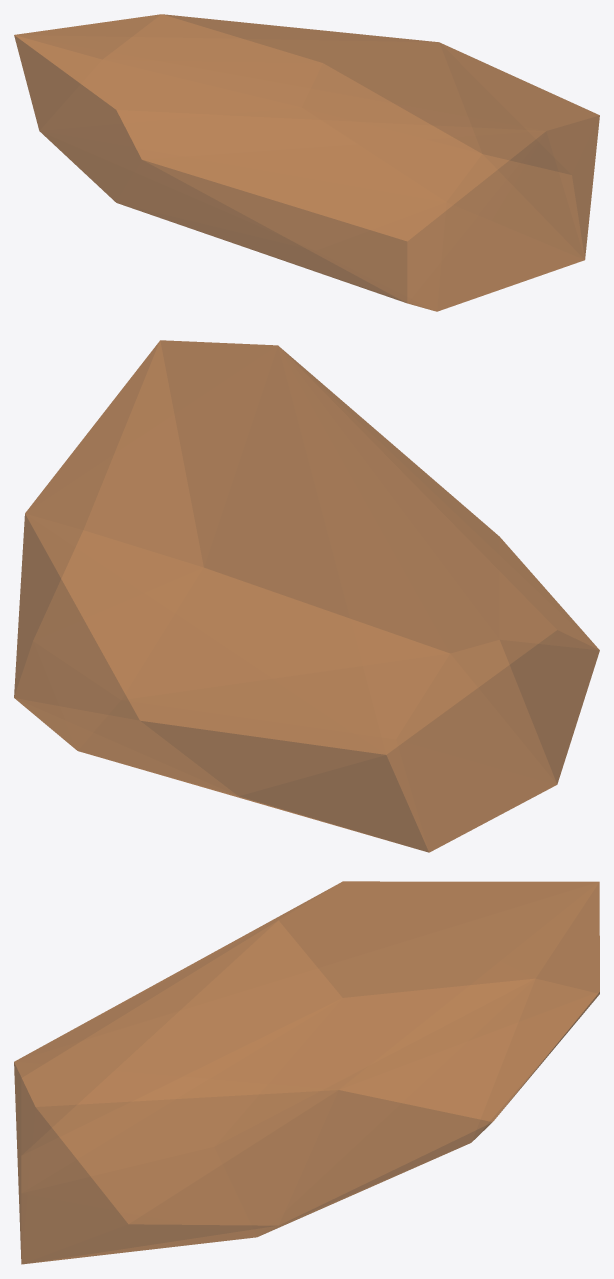
3 renders of one model, top to bottom at view 1: azimuth 30°, elevation 25°; view 2: azimuth 150°, elevation 25°; view 3: azimuth 270°, elevation 25°, orthographic. The views are drawn at different scales.
Visible parts, largest first — view 1: Shape_IndexedFaceSet.023_Shape_IndexedFaceSet.14699; view 2: Shape_IndexedFaceSet.023_Shape_IndexedFaceSet.14699; view 3: Shape_IndexedFaceSet.023_Shape_IndexedFaceSet.14699.
Part boxes in pixels (x1=…): Shape_IndexedFaceSet.023_Shape_IndexedFaceSet.14699: x1=14, y1=14, x2=599, y2=311; Shape_IndexedFaceSet.023_Shape_IndexedFaceSet.14699: x1=14, y1=340, x2=599, y2=852; Shape_IndexedFaceSet.023_Shape_IndexedFaceSet.14699: x1=14, y1=881, x2=599, y2=1264.
Size of the model in its own units: 0.0688 by 0.0279 by 0.0753.
